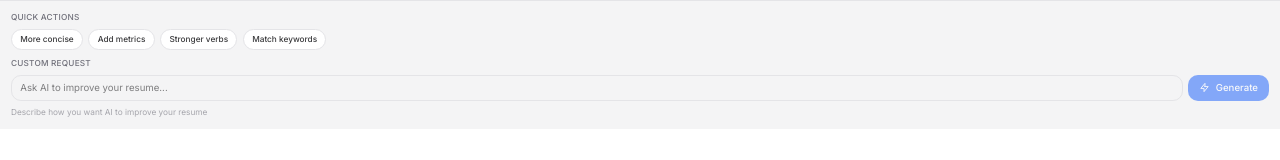
Test: AIPromptInput › Generate button › is enabled when input has text
Type "My prompt" into the field with placeholder "Ask AI to improve your resume...".
click(597, 88); type("My prompt")  # box [11, 74, 1183, 101]
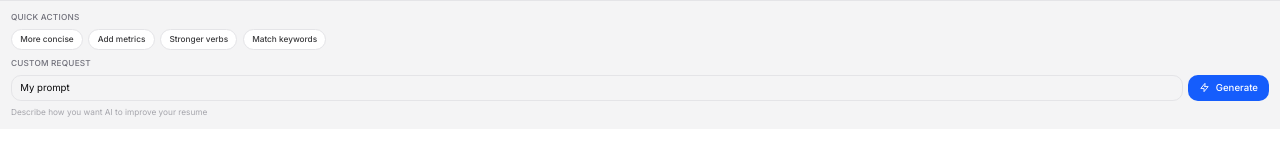
Result: the button "Generate" is enabled at [1188, 74, 1269, 101]
